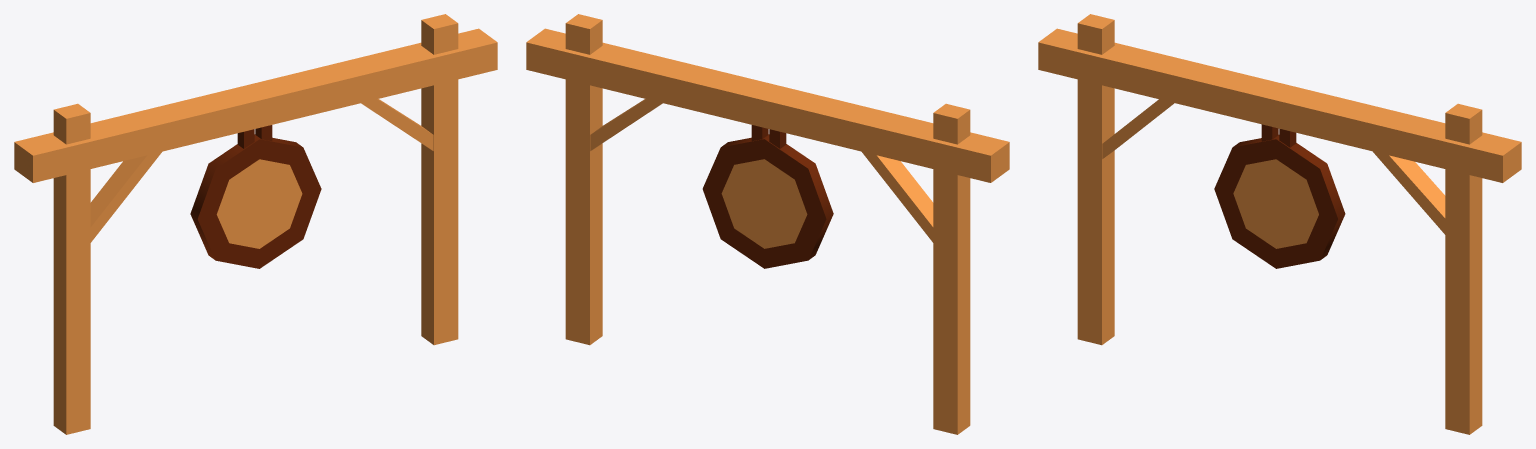
File: big_gong_2.FBX
3 views of the same model, side by side, from view 1: azimuth 30°, elevation 25°; view 2: azimuth 150°, elevation 25°; view 3: azimuth 330°, elevation 25° (orthographic).
Visible parts, largest first — view 1: big_gong_2; view 2: big_gong_2; view 3: big_gong_2.
Boxes of the visible parts, x1,y1,x2,y2 form: big_gong_2: (14, 14, 497, 434); big_gong_2: (526, 14, 1009, 434); big_gong_2: (1038, 14, 1521, 434).
Size of the model in its own units: 5.12 by 3.33 by 0.3606.
1 material, 1 textured.
